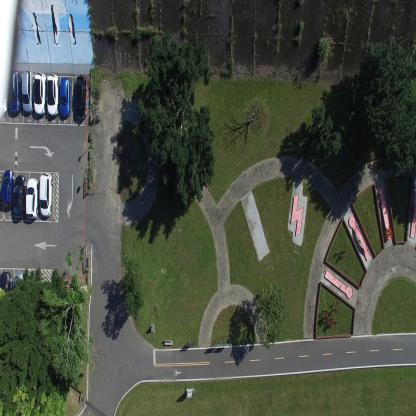car: (74, 74, 88, 120), (39, 172, 53, 216), (8, 70, 22, 114), (11, 272, 25, 316), (13, 174, 26, 219), (25, 176, 38, 220), (46, 73, 59, 117), (22, 70, 35, 113), (34, 71, 46, 116), (60, 76, 72, 117), (2, 168, 14, 209), (0, 269, 11, 313), (0, 72, 8, 112)
